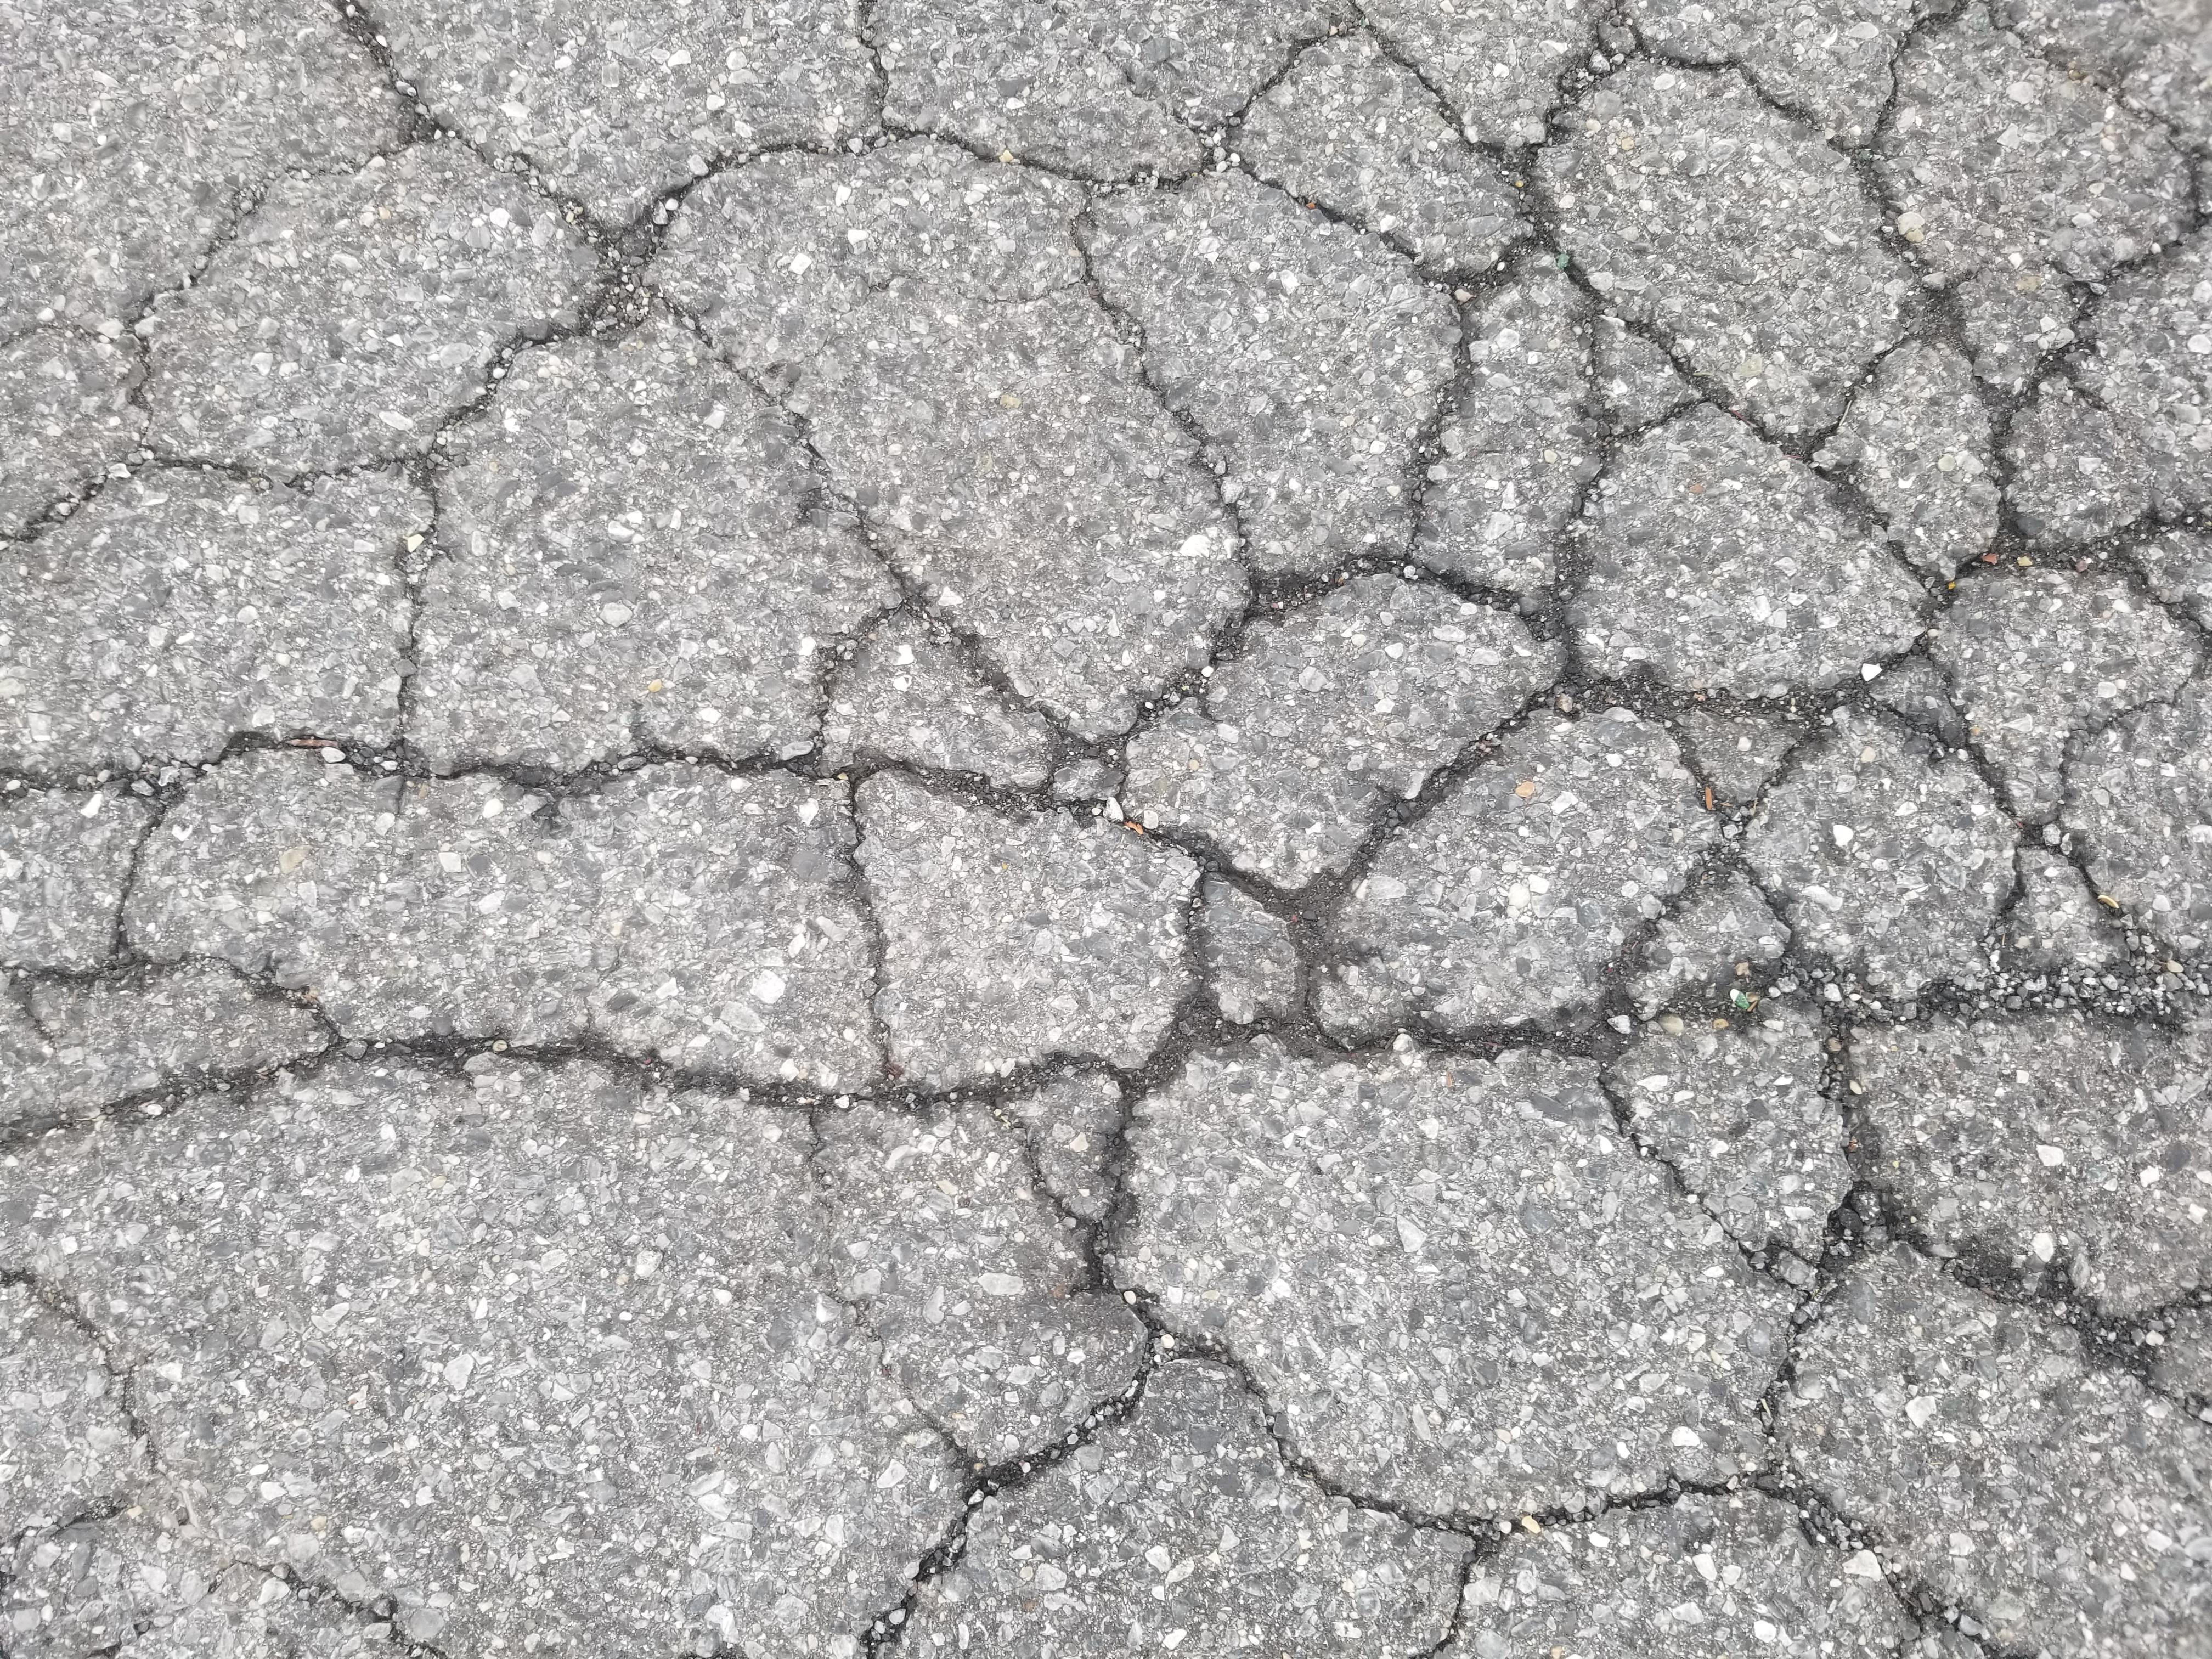alligator-crack: (26, 13, 2212, 1659)
